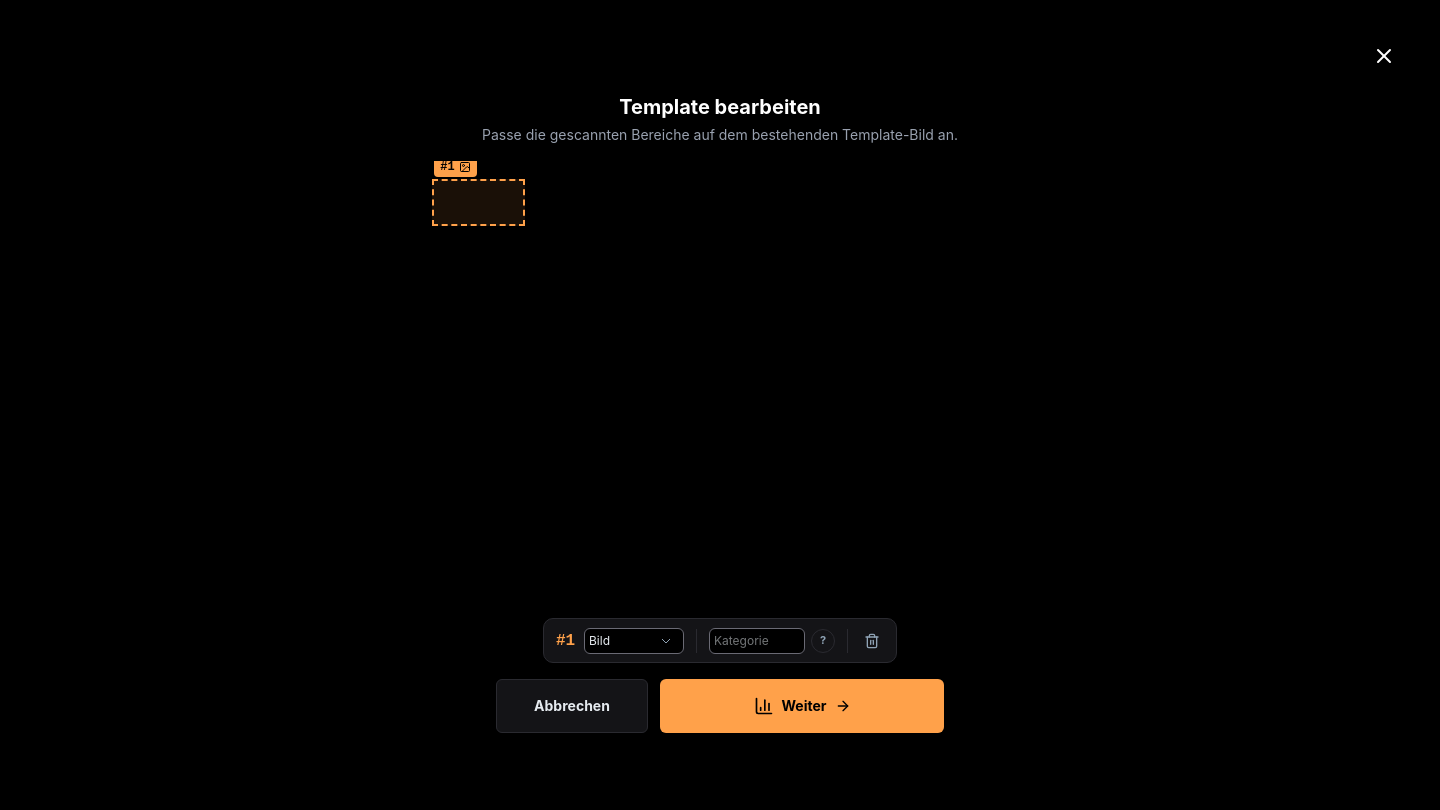
Test: TemplateEditor › changes region type from image to text via dropdown
This screenshot has width=1440, height=810.
Check: the number of buttons titled "Region löschen" is 1, box [860,629,884,653]
Check: the field with placeholder "Erwarteter Text" is not shown
Note: Switch the region to text type
Select "Text (OCR)" in the dropdown named "Typ": {"x": 634, "y": 641} [584,628,684,654]
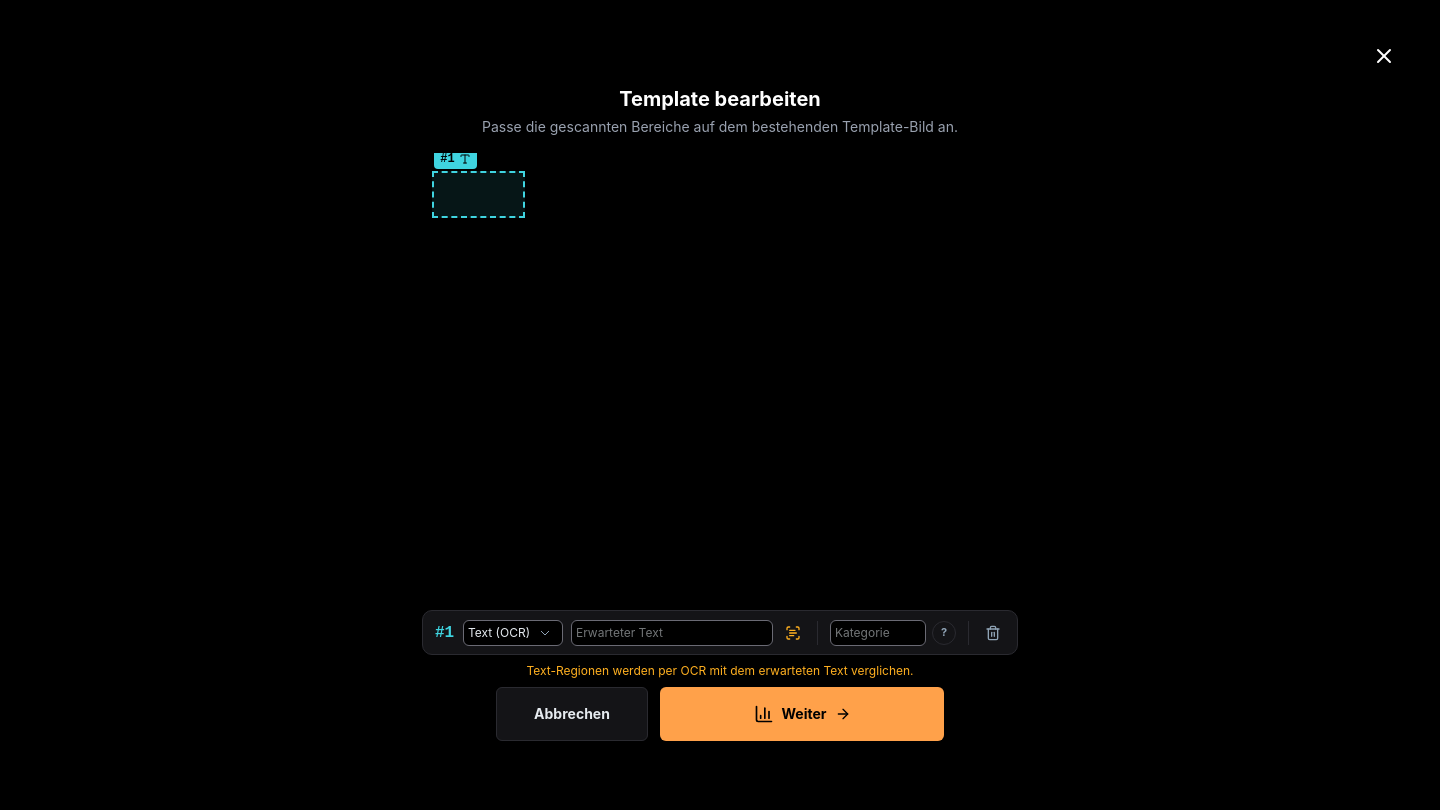
Check: the field with placeholder "Erwarteter Text" is shown, box [571,620,773,646]
